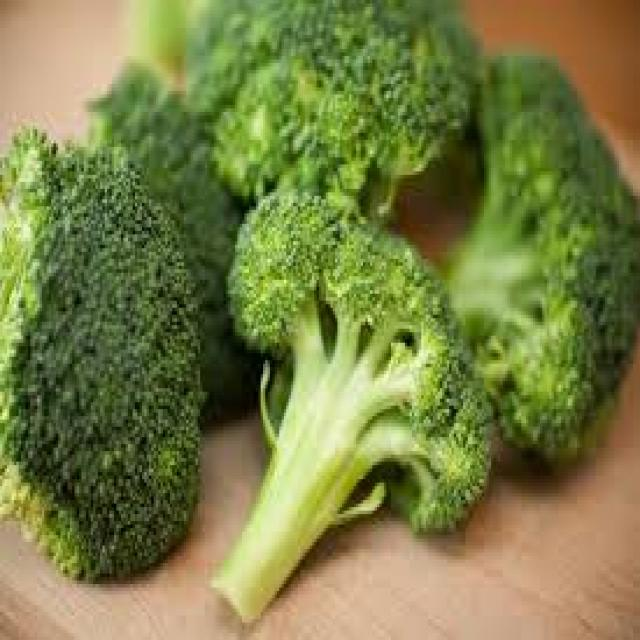organic waste: (198, 185, 493, 616), (0, 115, 200, 580), (438, 49, 638, 476), (179, 0, 484, 231), (84, 56, 265, 423), (135, 0, 195, 70)
